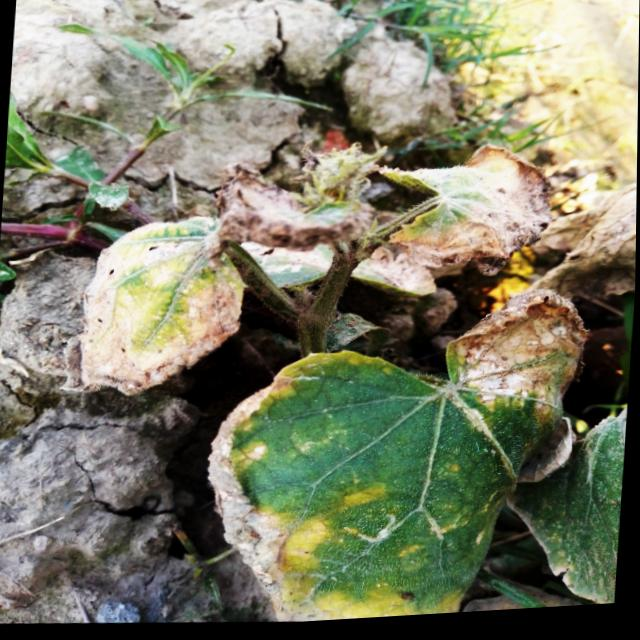Bacterial-Wilt: (79, 221, 245, 402), (529, 192, 637, 319)
